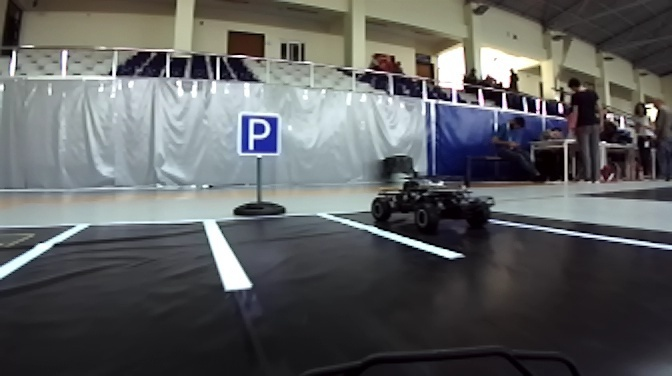park: (237, 109, 283, 160)
